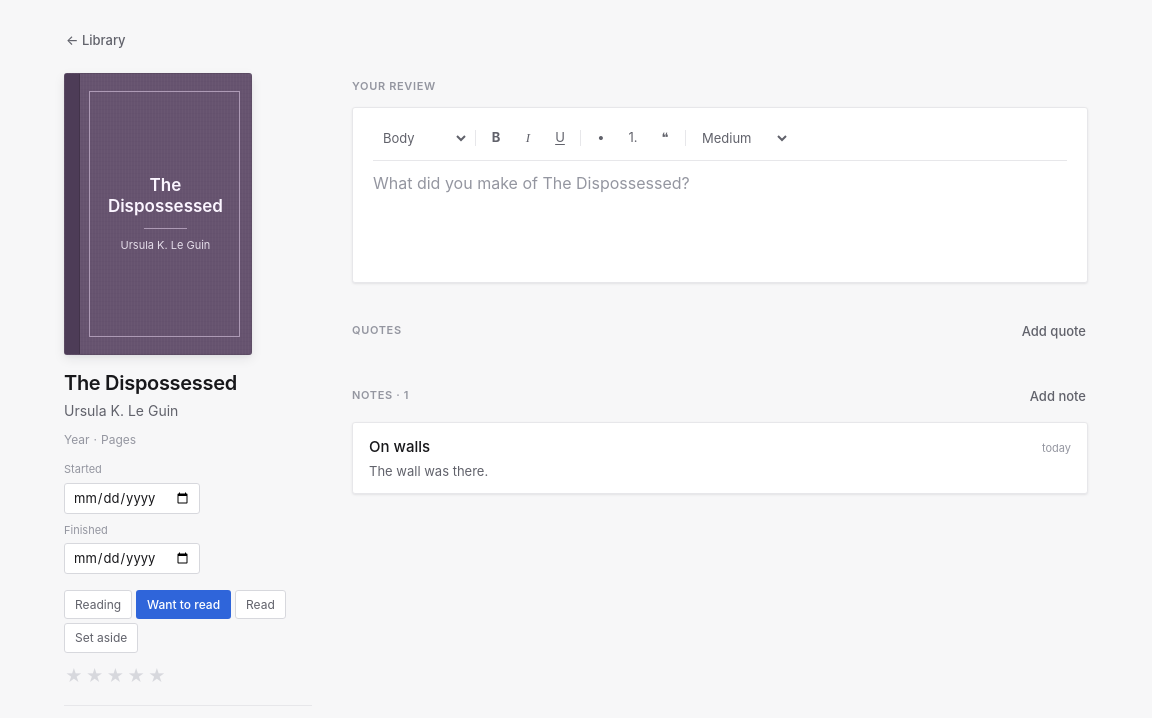
Test: renaming a note from the book page › renames the note that is open
Click the text "On walls" at (400, 447), box [369,435,430,459]
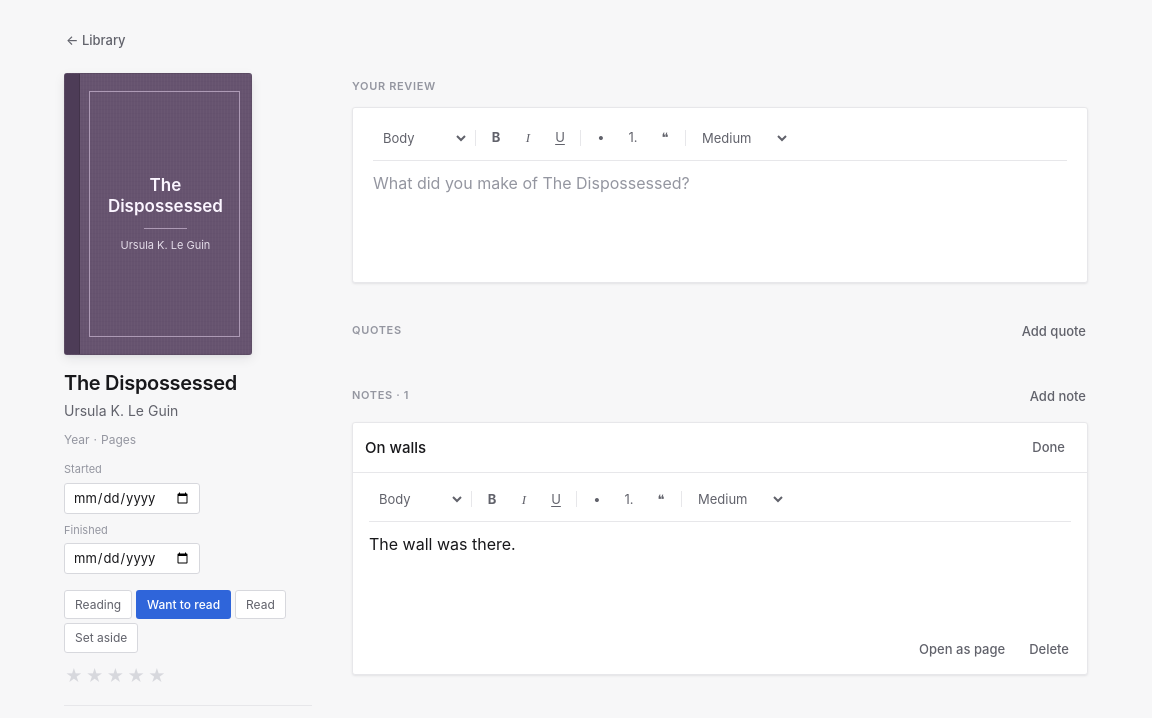
Click the button "On walls" at (396, 447), box [361,436,1018,460]
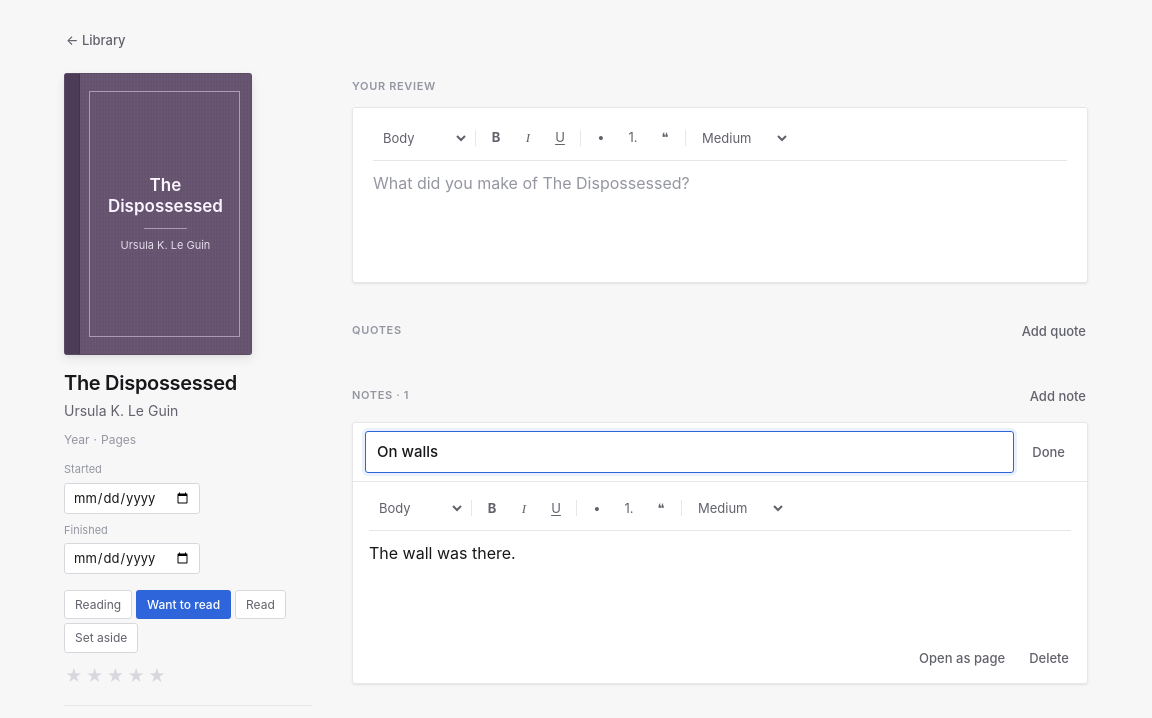
Replace the text in the field named "Note title" with "Ambiguity" at (690, 452), box [365,431,1014,473]
Then press Enter
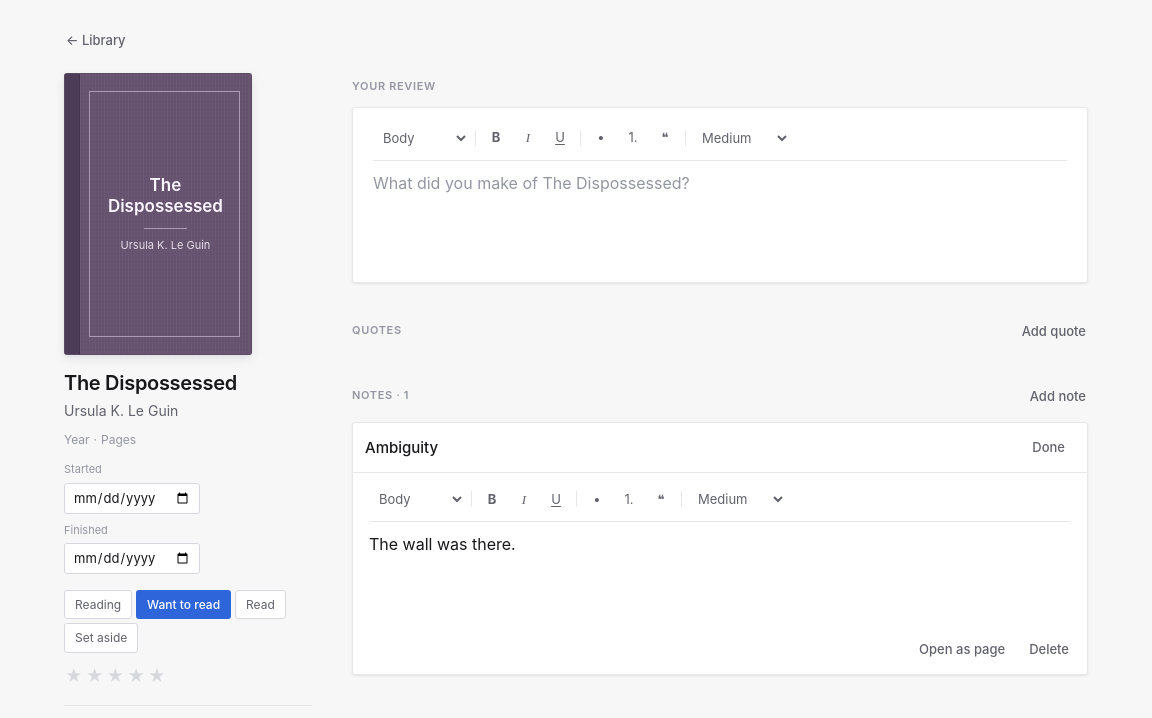
expect the button "Ambiguity" is shown: met, box [361,436,1018,460]
